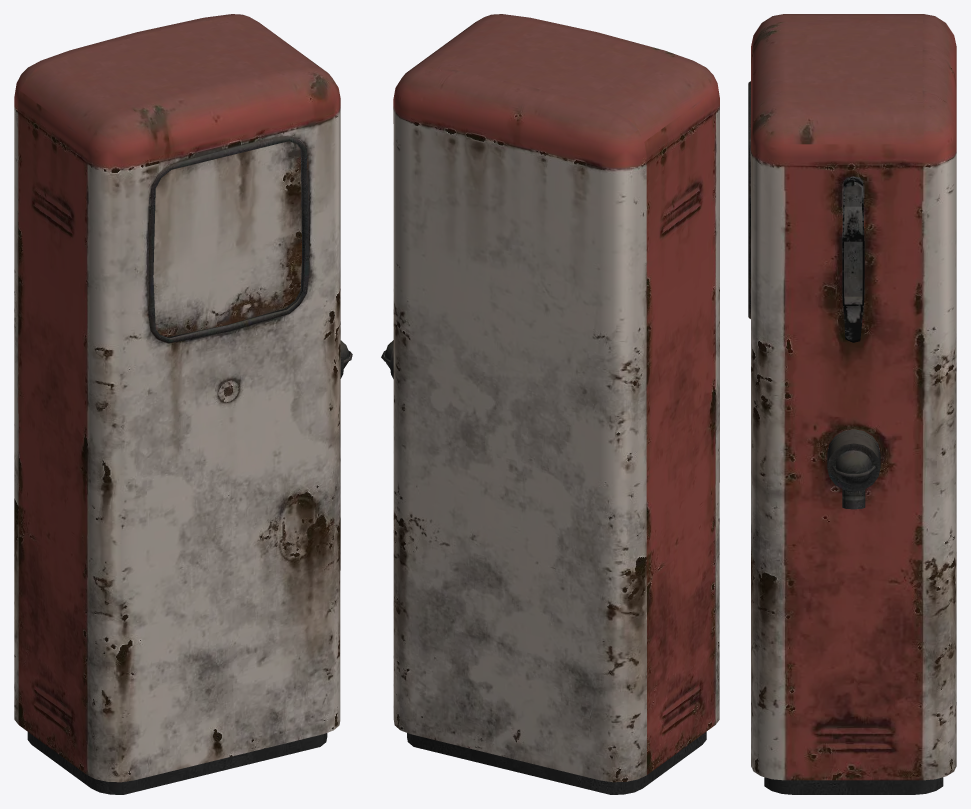
Rendered from surtidor.glb.
3 views of the same model, side by side, from view 1: azimuth 30°, elevation 25°; view 2: azimuth 150°, elevation 25°; view 3: azimuth 270°, elevation 25° (orthographic).
Visible parts, largest first — view 1: gas_pump_prop_gas_station_0; view 2: gas_pump_prop_gas_station_0; view 3: gas_pump_prop_gas_station_0.
Boxes of the visible parts, x1,y1,x2,y2 form: gas_pump_prop_gas_station_0: (14,14,352,794); gas_pump_prop_gas_station_0: (381,14,719,794); gas_pump_prop_gas_station_0: (748,14,956,794).
Size of the model in its own units: 0.6981 by 1.52 by 0.4229.
1 material, 1 textured.
